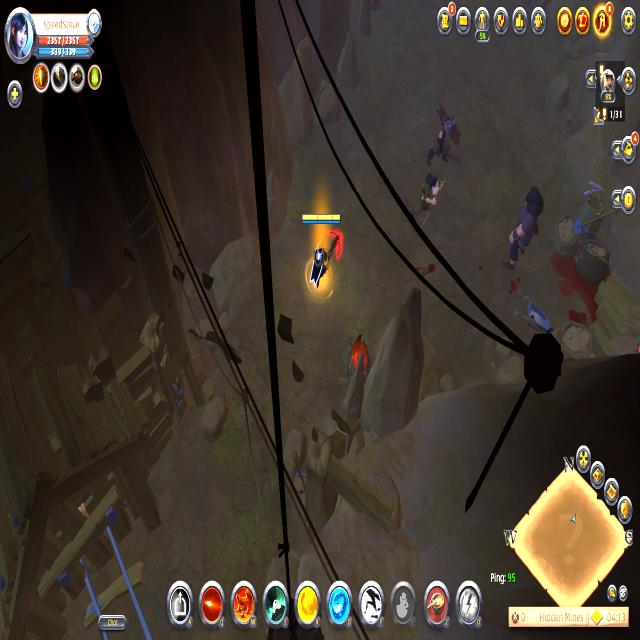ore: (500, 188, 547, 276), (424, 108, 462, 176), (410, 178, 443, 229)
red: (299, 206, 344, 298)
